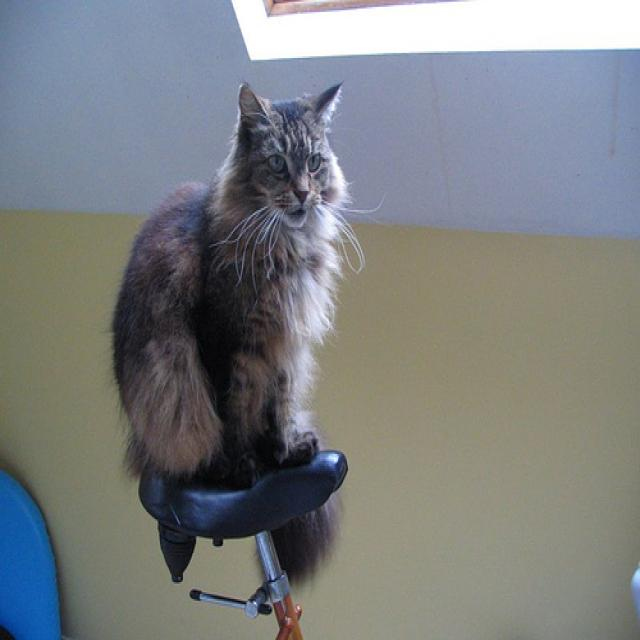left eye: (304, 149, 322, 174)
